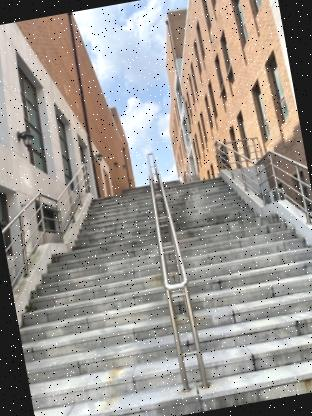stair: (151, 146, 312, 408), (16, 177, 188, 416)
